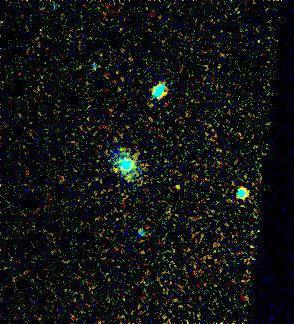star: (158, 177, 188, 207)
